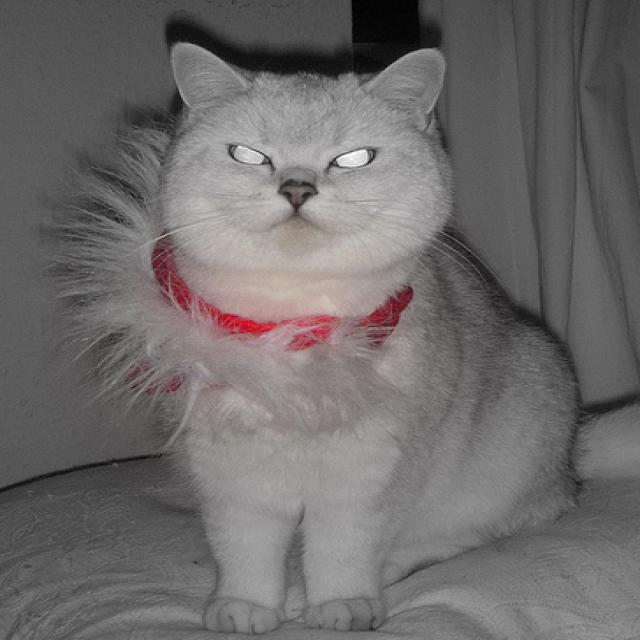British Shorthair: (113, 31, 587, 640)
